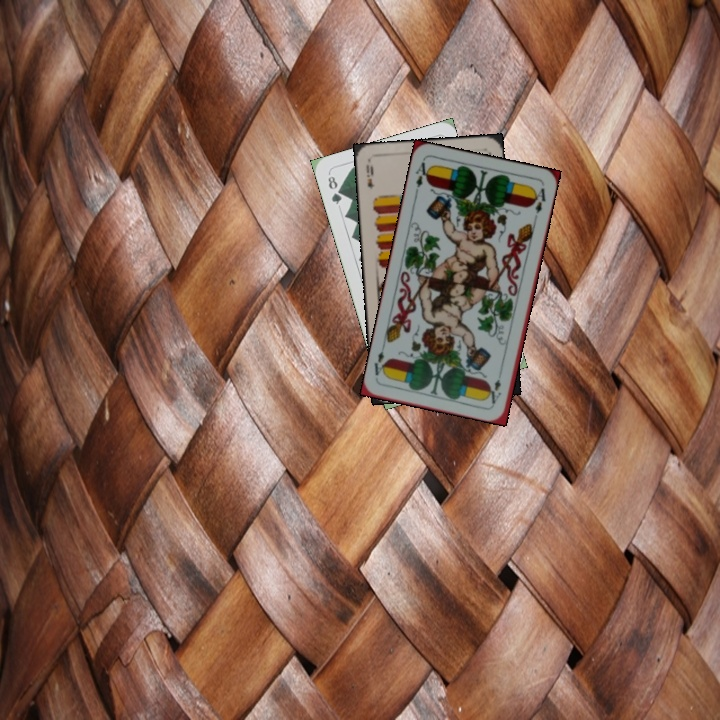E9: (362, 160, 377, 192)
EA: (411, 158, 433, 197), (487, 375, 504, 407)
G8: (324, 172, 345, 207)
